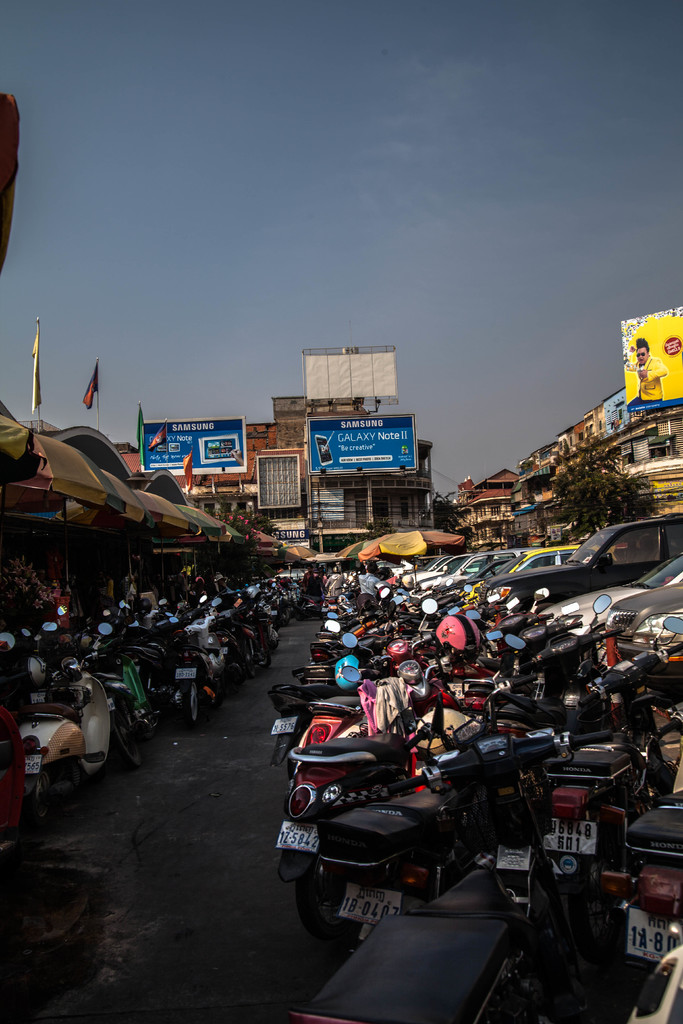Wheel: (302, 856, 366, 945), (185, 684, 202, 725)
